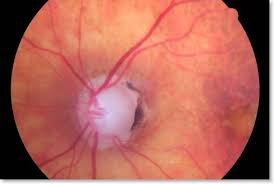Glaucoma section-1: (97, 95, 128, 130)
Glaucoma section-2: (76, 75, 146, 149)
